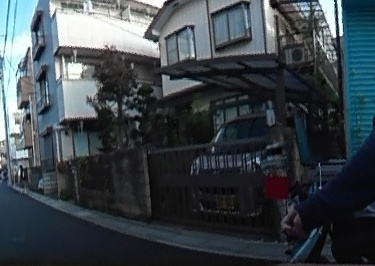person: (16, 162, 28, 194)
